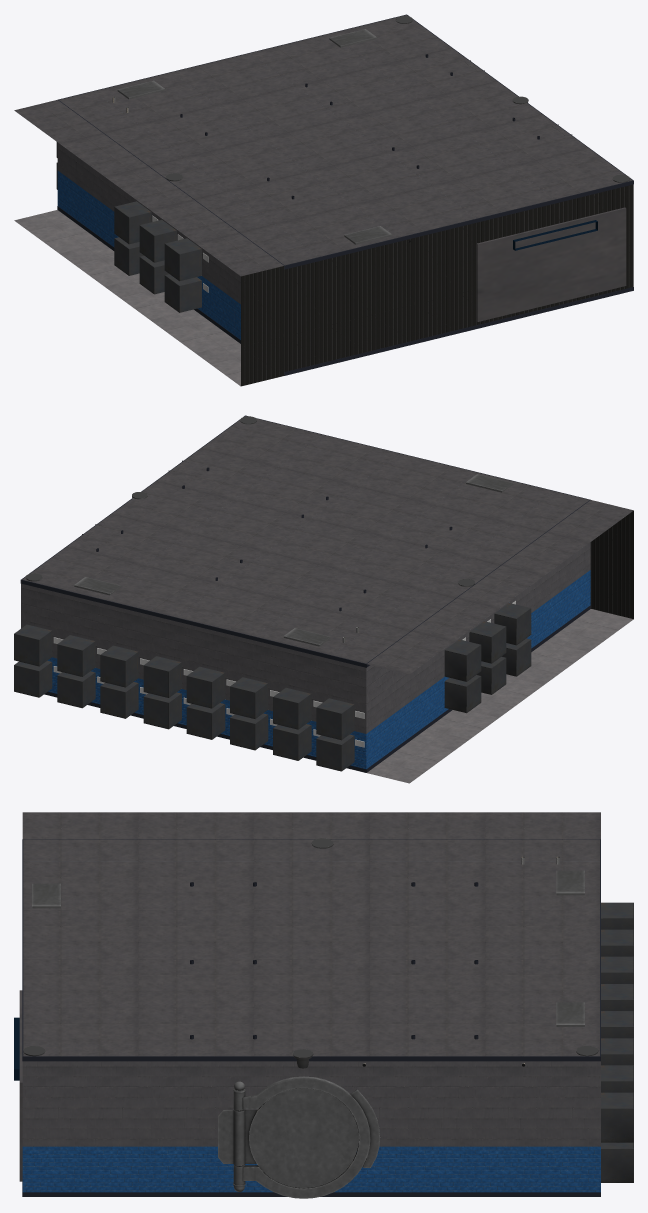
The model's file is Bank_Vault_Room.fbx.
The picture shows the model from 3 angles, top to bottom: view 1: azimuth 30°, elevation 25°; view 2: azimuth 150°, elevation 25°; view 3: azimuth 270°, elevation 25°; orthographic projection. The views are drawn at different scales.
Parts seen in each view (by area): view 1: Roof, Right_Side_Wall, Floor, Front_Wall, Skirting, Vip_Locked_Lockers, B07, B08; view 2: Roof, Left_Side_Wall.008, Front_Wall, Floor, Vip_Locked_Lockers, Right_Side_Wall, Skirting, A04_Locked, A06, A07, A05, A08 (+13 smaller); view 3: Roof, Door_Wall, Vault_Door, Skirting, A08, B06_Locked, Right_Side_Wall, A02, A03, A05, A06, A07 (+6 smaller).
Boxes of the visible parts, x1,y1,x2,y2 form: Roof: [14, 15, 632, 276]; Right_Side_Wall: [241, 184, 633, 386]; Floor: [14, 210, 240, 386]; Front_Wall: [57, 142, 240, 339]; Skirting: [57, 14, 633, 375]; Vip_Locked_Lockers: [114, 201, 176, 294]; B07: [164, 238, 201, 281]; B08: [164, 274, 201, 312]; Roof: [22, 416, 633, 674]; Left_Side_Wall.008: [21, 580, 366, 768]; Front_Wall: [366, 542, 590, 768]; Floor: [225, 609, 633, 783]; Vip_Locked_Lockers: [444, 621, 506, 713]; Right_Side_Wall: [590, 510, 633, 619]; Skirting: [20, 415, 590, 772]; A04_Locked: [186, 666, 225, 708]; A06: [100, 645, 138, 687]; A07: [57, 635, 95, 676]; A05: [143, 656, 181, 697]; A08: [14, 624, 52, 666]; Roof: [22, 812, 600, 1066]; Door_Wall: [22, 1061, 600, 1192]; Vault_Door: [218, 1076, 380, 1198]; Skirting: [22, 839, 600, 1196]; A08: [601, 1092, 633, 1142]; B06_Locked: [601, 1142, 633, 1182]; Right_Side_Wall: [14, 990, 22, 1181]; A02: [601, 929, 633, 956]; A03: [601, 956, 633, 983]; A05: [601, 1011, 633, 1038]; A06: [601, 1038, 633, 1065]; A07: [601, 1065, 633, 1092].
Size of the model in its own units: 11.93 by 3.33 by 12.67.
